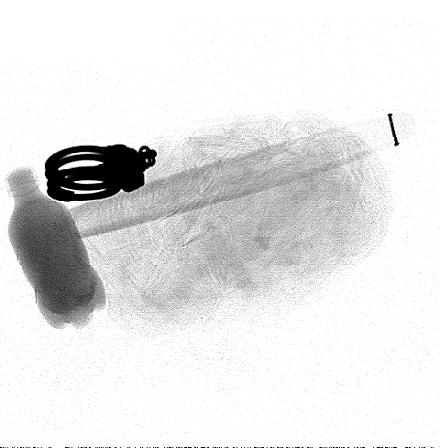HandCuffs: (44, 144, 158, 202)
